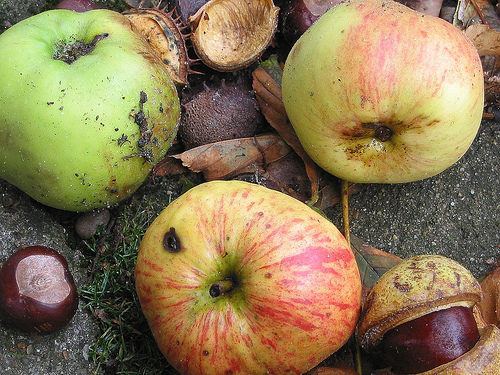apple: (134, 177, 363, 373), (281, 0, 484, 185), (0, 8, 182, 214), (0, 244, 77, 337)
